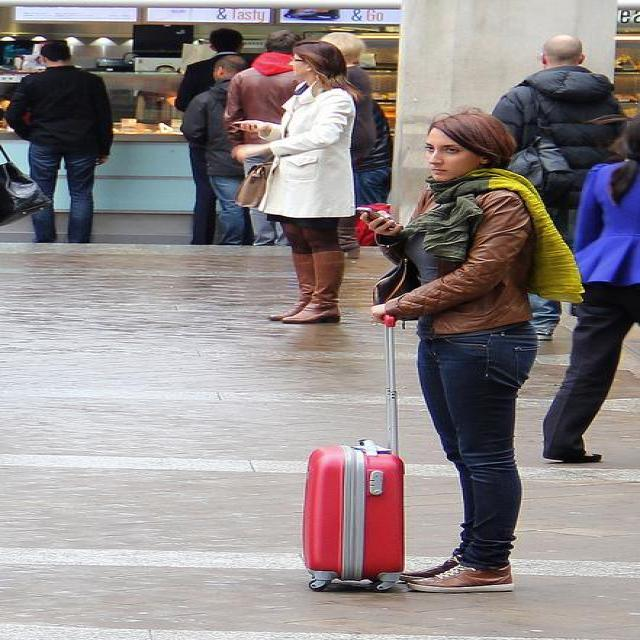obstacle: (360, 106, 530, 594), (229, 38, 366, 323), (538, 114, 638, 465), (488, 31, 618, 239), (0, 40, 110, 242), (174, 26, 247, 243), (176, 53, 245, 242), (222, 26, 300, 136), (336, 67, 394, 204)
